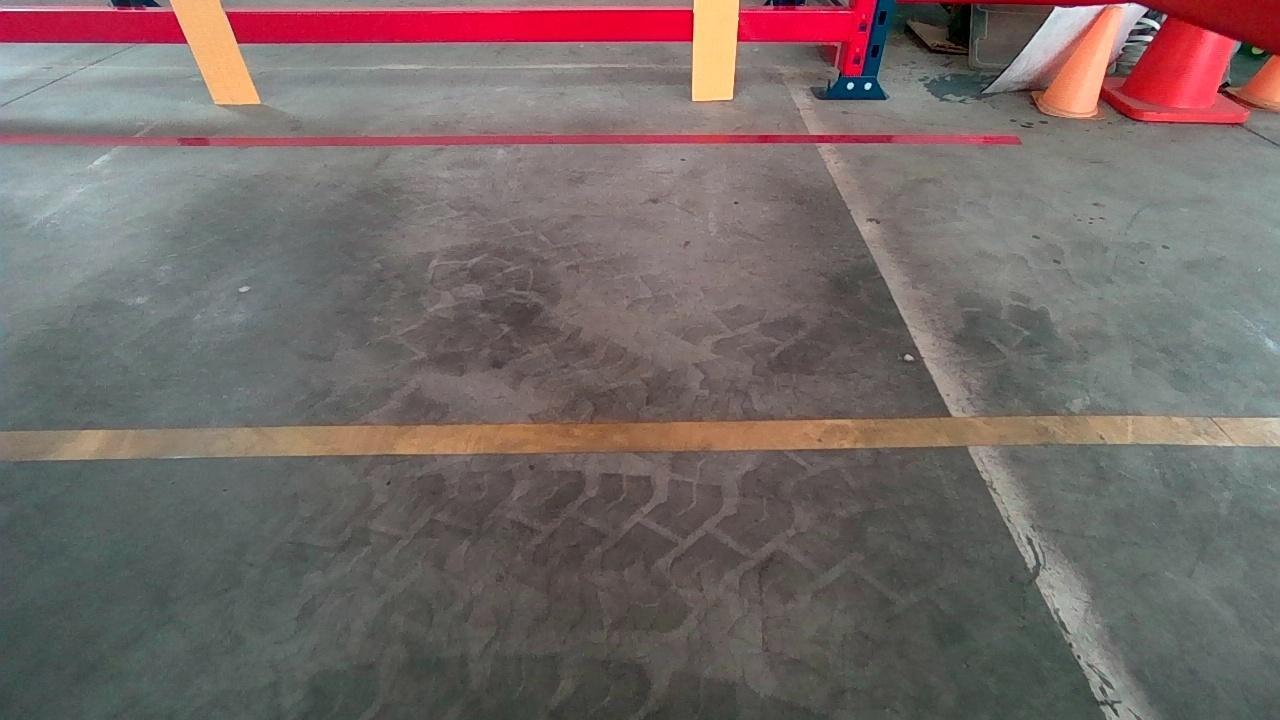h_rack: (11, 2, 854, 45)
orange_strip: (170, 0, 260, 102), (693, 0, 738, 99)
red_line: (3, 124, 1025, 154)
yellow_line: (3, 414, 1276, 462)
